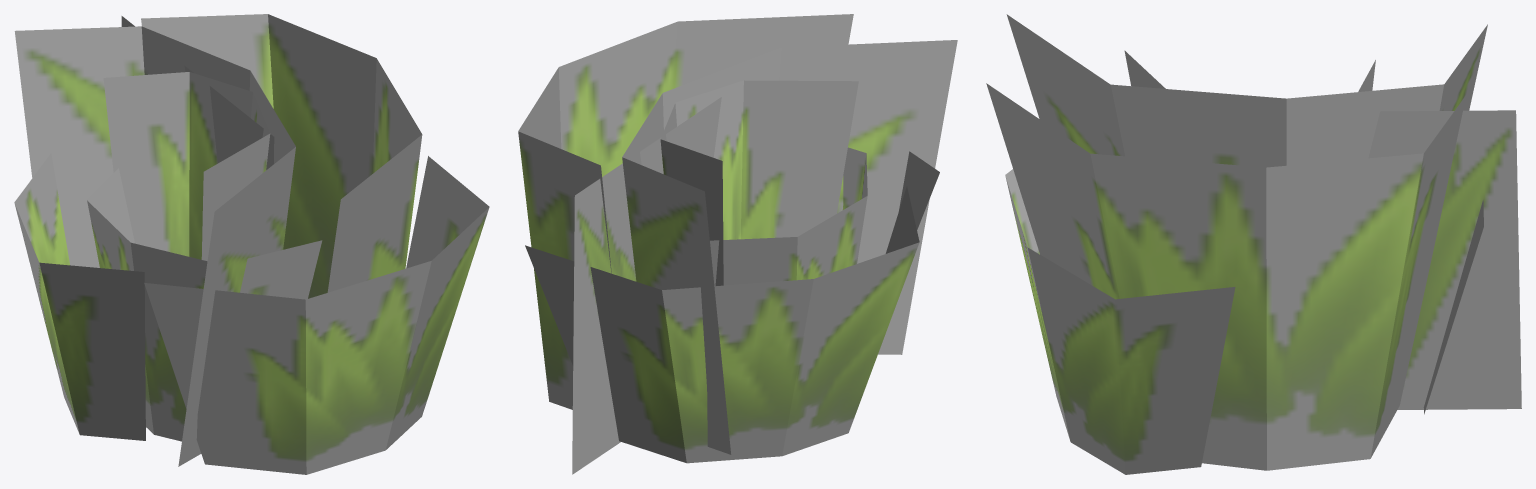
Rendered from herbe.fbx.
The picture shows the model from 3 angles, left to right: view 1: azimuth 30°, elevation 25°; view 2: azimuth 150°, elevation 25°; view 3: azimuth 270°, elevation 25°; orthographic projection. The views are drawn at different scales.
Visible parts, largest first — view 1: touffe2, simple1, simple3, Simple2; view 2: touffe2, simple1, simple3, Simple2; view 3: touffe2, simple1, Simple2, simple3.
Boxes of the visible parts, bbox=[...] form: touffe2: bbox=[14, 14, 489, 474]; simple1: bbox=[14, 26, 295, 466]; simple3: bbox=[103, 72, 270, 261]; Simple2: bbox=[121, 16, 274, 169]; touffe2: bbox=[518, 14, 939, 463]; simple1: bbox=[622, 40, 957, 454]; simple3: bbox=[660, 80, 858, 285]; Simple2: bbox=[572, 97, 721, 474]; touffe2: bbox=[986, 83, 1483, 474]; simple1: bbox=[1006, 14, 1487, 167]; Simple2: bbox=[1368, 110, 1521, 409]; simple3: bbox=[1124, 50, 1375, 91].
Size of the model in its own units: 0.7247 by 0.5547 by 0.8126.
